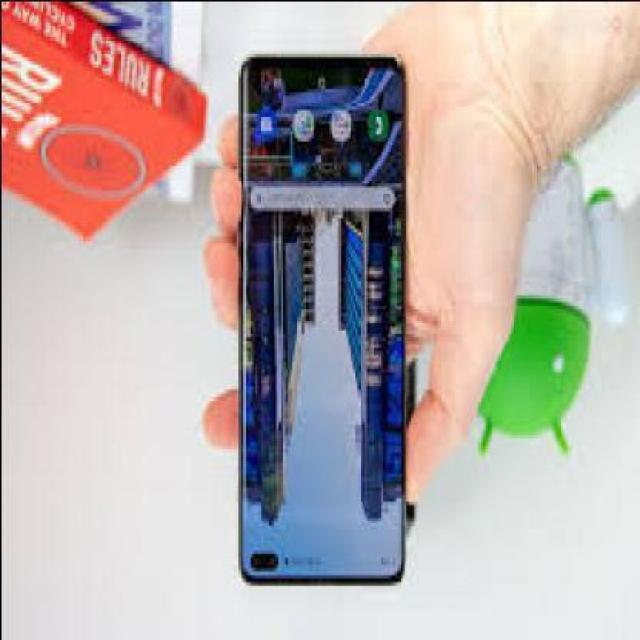mobile-phone: (237, 49, 408, 588)
